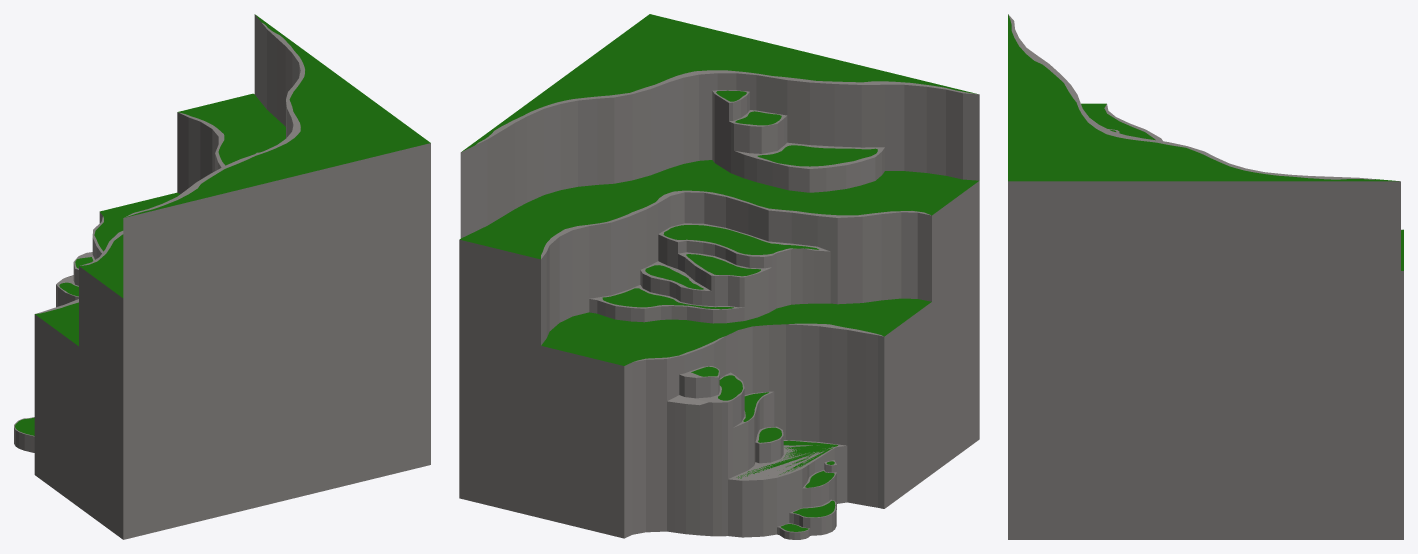
File: MountainStairWedge.fbx
The picture shows the model from 3 angles, left to right: view 1: azimuth 30°, elevation 25°; view 2: azimuth 150°, elevation 25°; view 3: azimuth 270°, elevation 25°; orthographic projection. The views are drawn at different scales.
Visible parts, largest first — view 1: Plane.013; view 2: Plane.013; view 3: Plane.013.
Part boxes in pixels (<box>): Plane.013: <box>14,14,430,539</box>; Plane.013: <box>459,14,979,539</box>; Plane.013: <box>1008,14,1403,539</box>.
Bounding box in the file's own units: 100 × 100 × 100.
